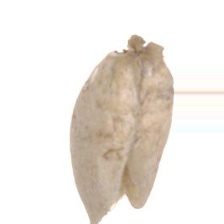L1: (82, 197, 148, 223), (110, 35, 165, 62)
L2: (69, 34, 174, 224)
